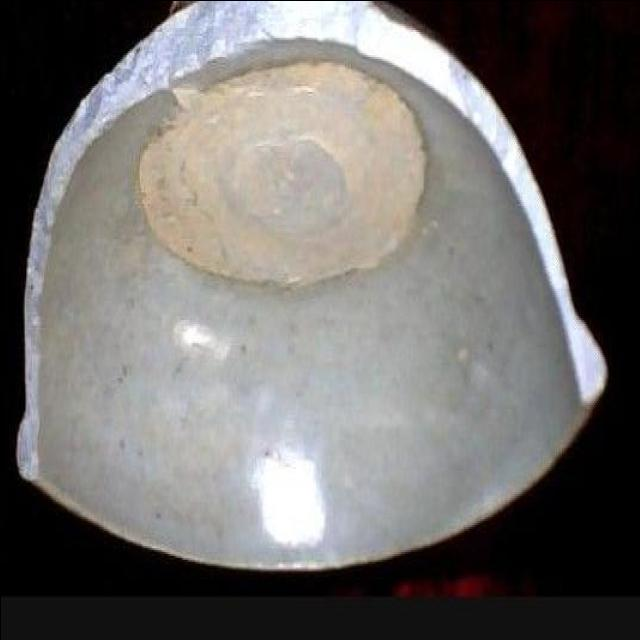-Other waste - ceramic-: (20, 1, 602, 574)
